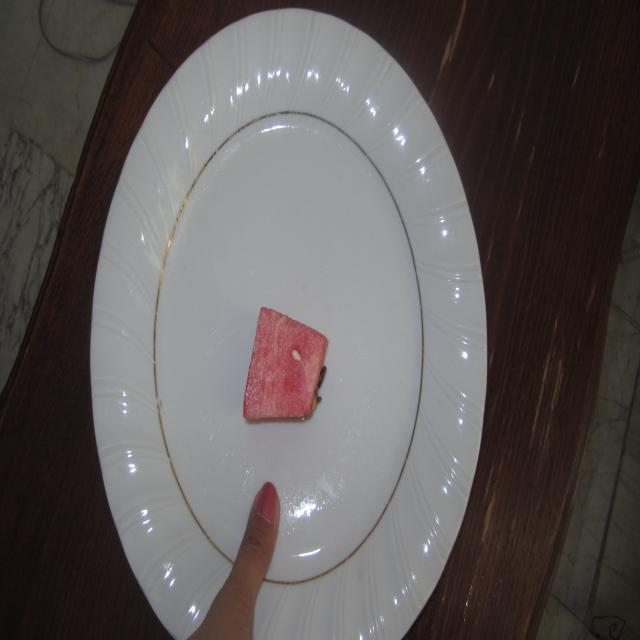Watermelon: (222, 298, 336, 441)
